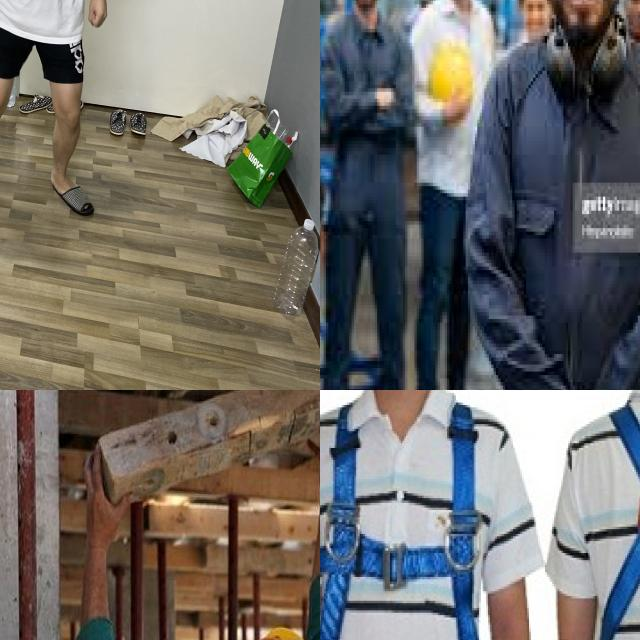Ear-protection: (584, 22, 626, 106), (540, 18, 577, 102)
Harness: (320, 396, 477, 640), (592, 392, 640, 640)
Sandals: (50, 150, 94, 217)
hand_noglove: (79, 439, 135, 548), (303, 415, 320, 487)
head_helmet: (422, 26, 472, 116)
person: (472, 0, 640, 390), (320, 0, 416, 390), (419, 0, 498, 390)
